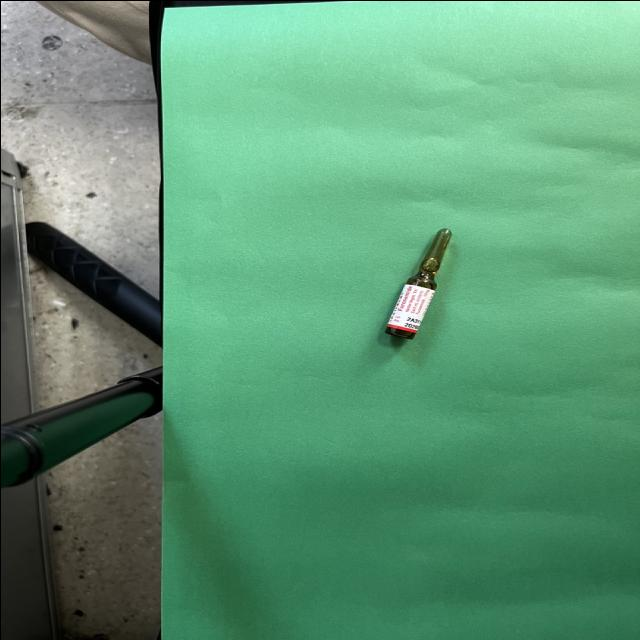Ampoules: (383, 228, 451, 340)
